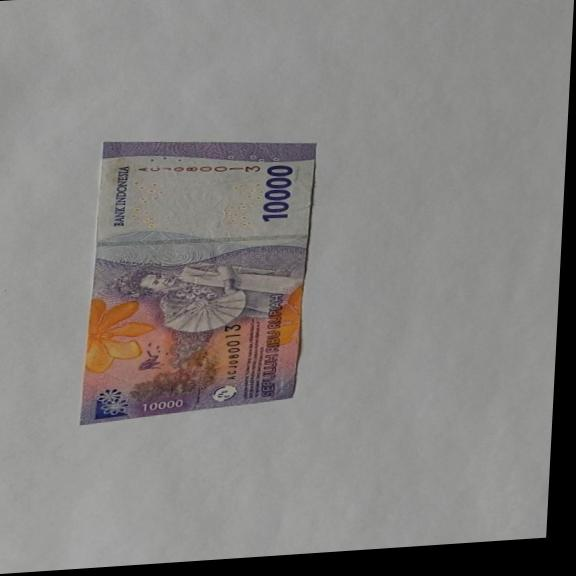Kertas: (79, 126, 317, 425), (259, 163, 296, 223)
